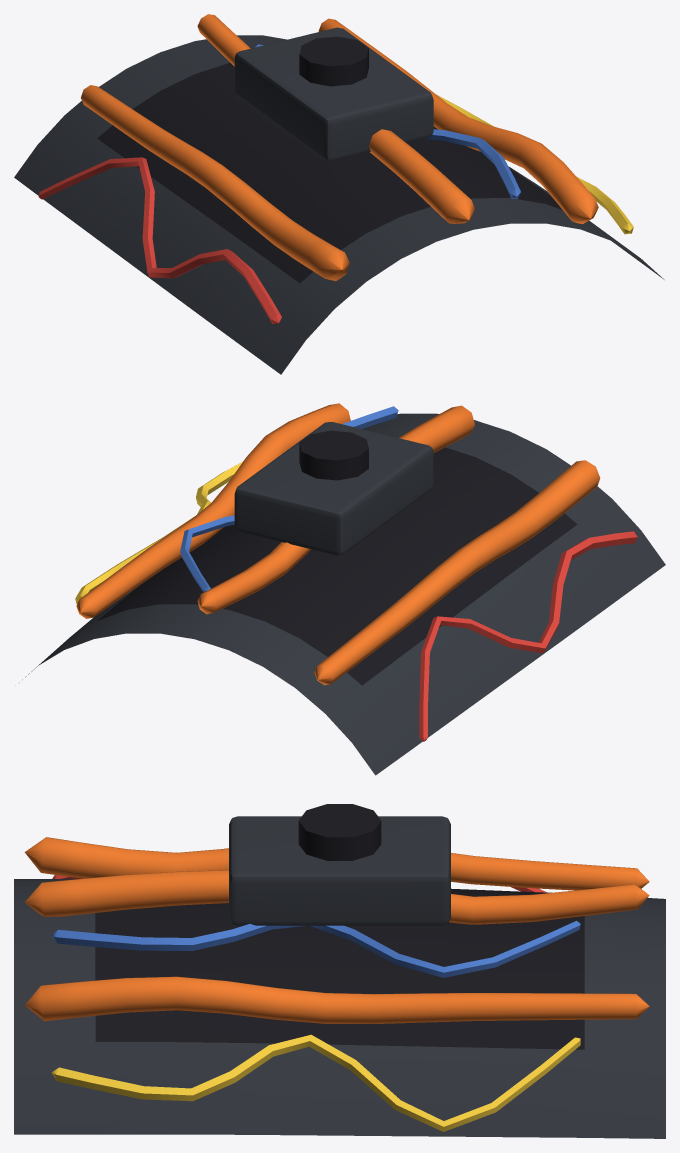
The model's file is RotMotorExpuesto.fbx.
3 renders of one model, top to bottom at view 1: azimuth 30°, elevation 25°; view 2: azimuth 150°, elevation 25°; view 3: azimuth 270°, elevation 25°, orthographic. The views are drawn at different scales.
Visible parts, largest first — view 1: RotMotorExpuesto; view 2: RotMotorExpuesto; view 3: RotMotorExpuesto.
Part boxes in pixels (bbox=[...]): RotMotorExpuesto: bbox=[14, 14, 664, 374]; RotMotorExpuesto: bbox=[19, 403, 665, 775]; RotMotorExpuesto: bbox=[14, 804, 665, 1138].
Bounding box in the file's own units: 3.71 × 1.6 × 4.4.
1 material, 1 textured.
